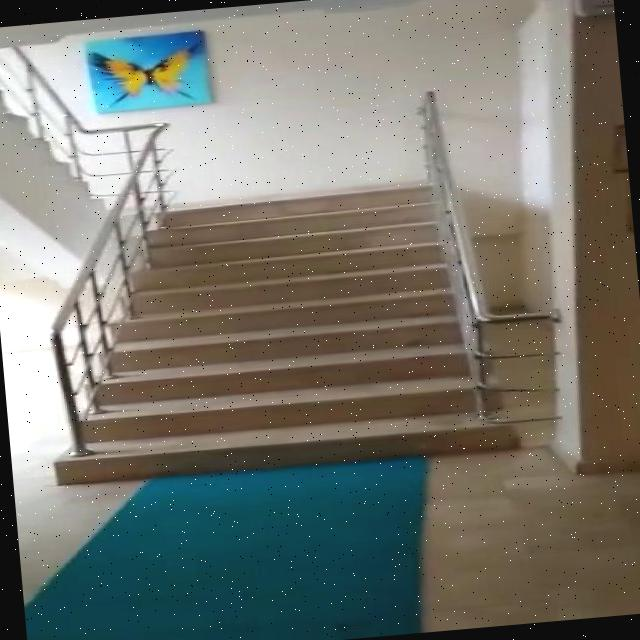stairs: (31, 173, 546, 489)
